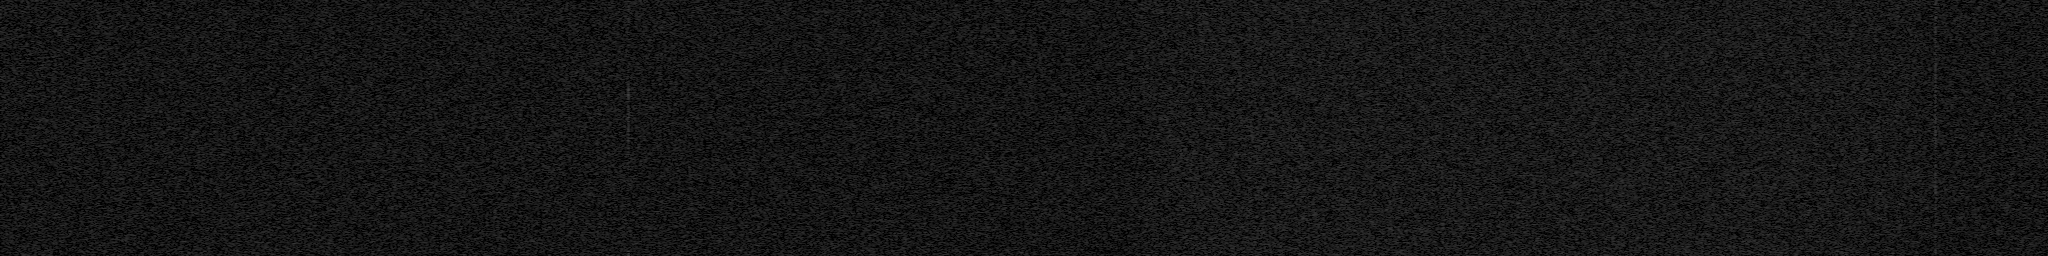wv_dvbt_8kfft: (1140, 0, 1924, 256)
wv_lsb: (626, 74, 631, 182), (626, 5, 631, 24), (626, 27, 631, 37), (626, 248, 631, 256), (627, 202, 630, 216), (627, 38, 630, 46), (627, 47, 630, 54), (627, 183, 630, 188), (626, 1, 630, 4), (627, 67, 630, 71), (627, 63, 630, 67), (627, 57, 630, 61), (627, 226, 630, 229)
wv_usb: (1933, 1, 1938, 56), (1933, 155, 1938, 206), (1933, 206, 1938, 256), (1933, 114, 1938, 154), (1933, 63, 1938, 91), (1933, 93, 1938, 112), (1933, 57, 1938, 61)
